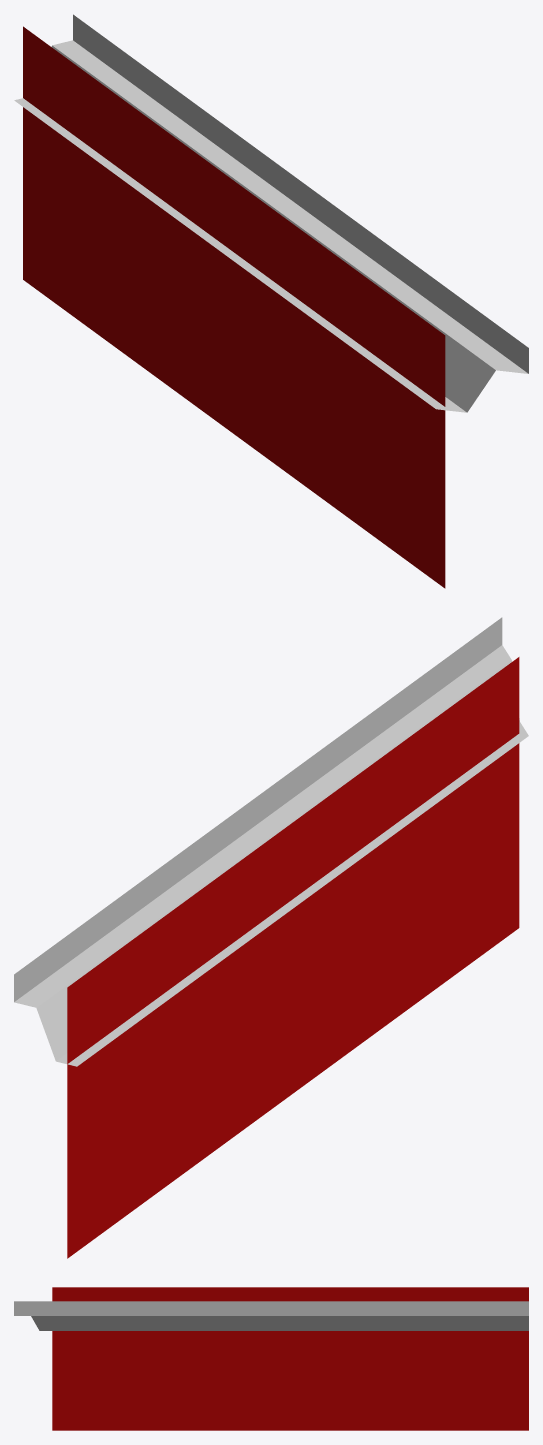
File: wall_side02.fbx
The picture shows the model from 3 angles, top to bottom: view 1: azimuth 30°, elevation 25°; view 2: azimuth 150°, elevation 25°; view 3: azimuth 270°, elevation 25°; orthographic projection. The views are drawn at different scales.
Visible parts, largest first — view 1: transform23; view 2: transform23; view 3: transform23.
Boxes of the visible parts, x1,y1,x2,y2 form: transform23: [14, 14, 528, 588]; transform23: [14, 617, 528, 1258]; transform23: [14, 1287, 528, 1430].
Size of the model in its own units: 0.645 by 2.65 by 8.65.
